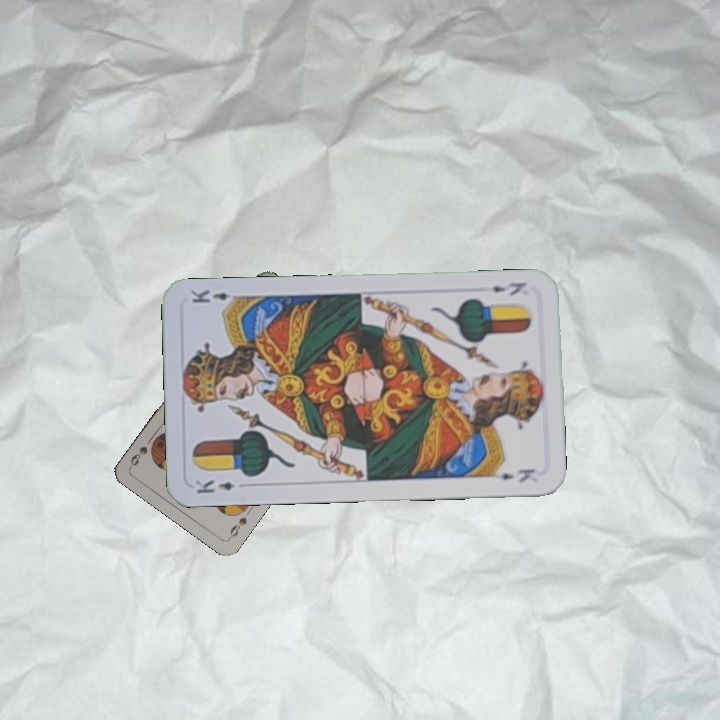EK: (191, 476, 237, 496), (488, 278, 529, 298)
S9: (225, 513, 250, 542)
